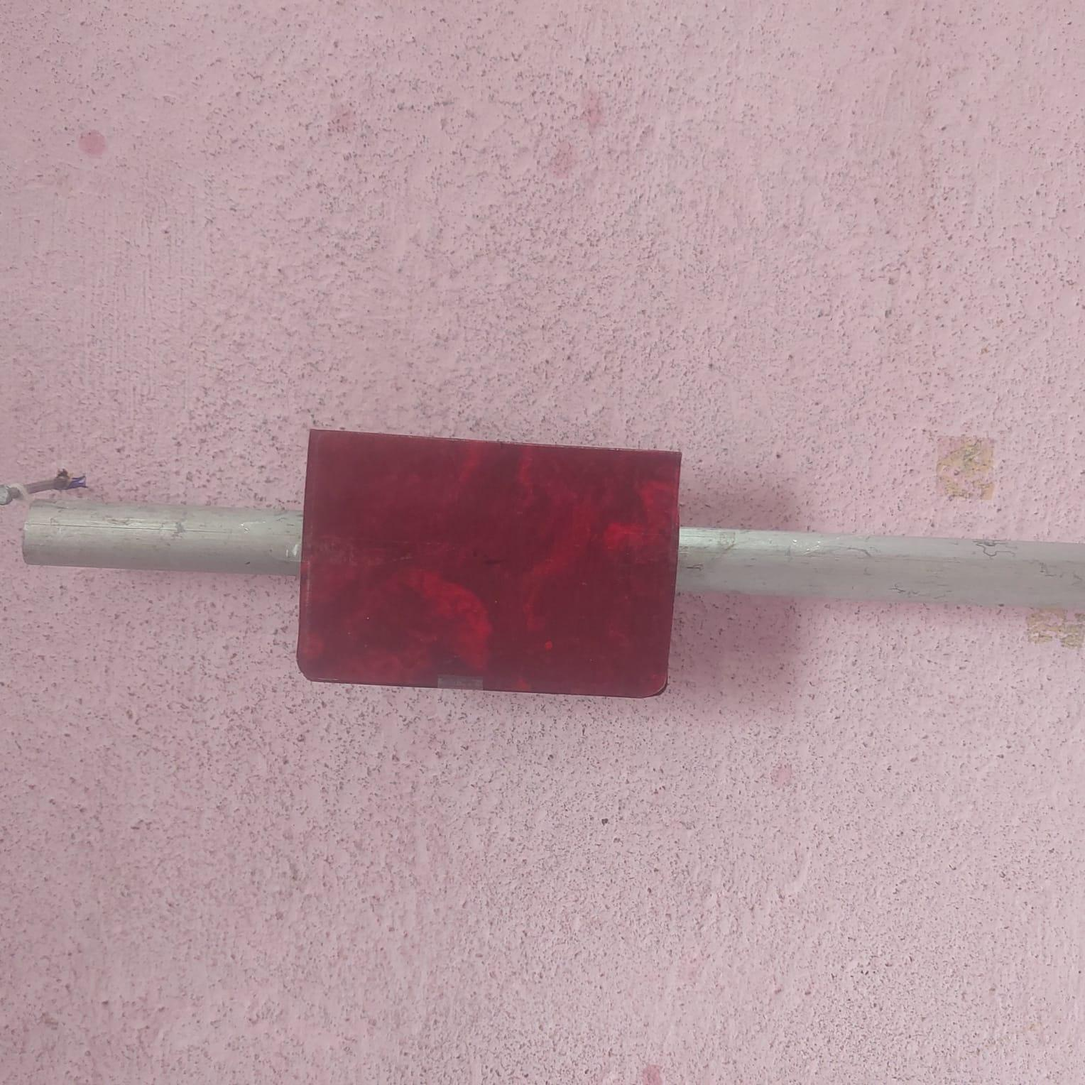wallet: (294, 427, 689, 703)
